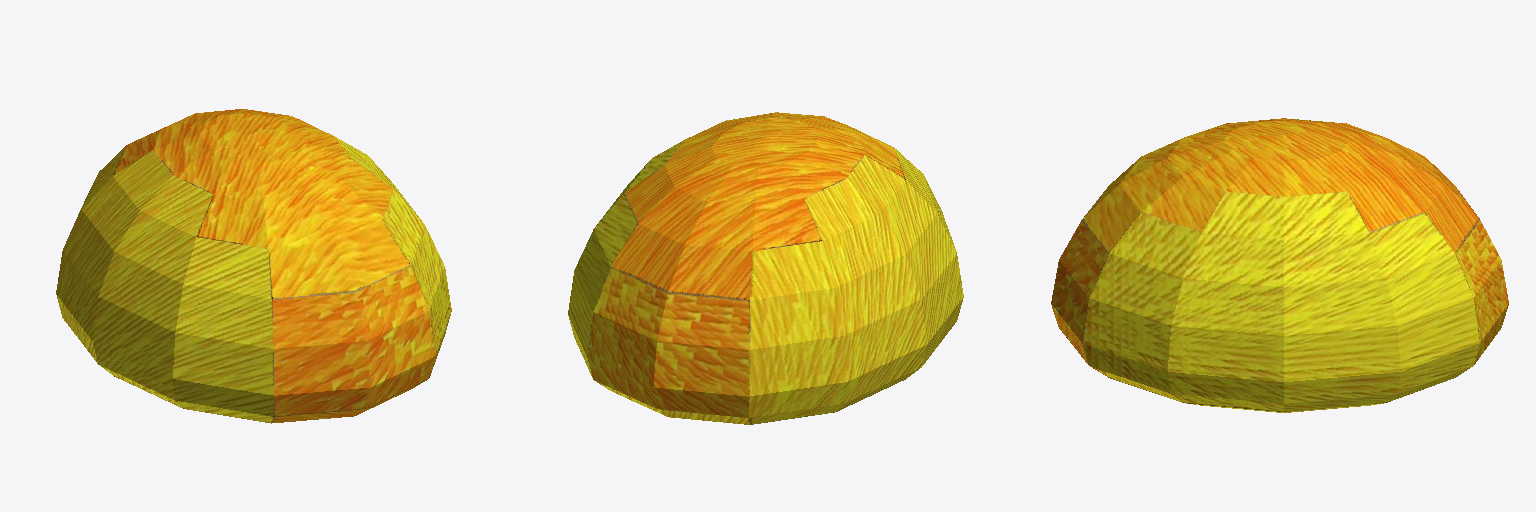
3 renders of one model, left to right at view 1: azimuth 30°, elevation 25°; view 2: azimuth 150°, elevation 25°; view 3: azimuth 270°, elevation 25°, orthographic.
Parts seen in each view (by area): view 1: sol:pSphere1; view 2: sol:pSphere1; view 3: sol:pSphere1.
Boxes of the visible parts, box(x1,y1,x2,y2) form: sol:pSphere1: box(56, 109, 451, 423); sol:pSphere1: box(568, 112, 963, 424); sol:pSphere1: box(1051, 118, 1508, 412).
Size of the model in its own units: 2 by 1.43 by 2.46.
Materials: 1 (1 with a texture image).